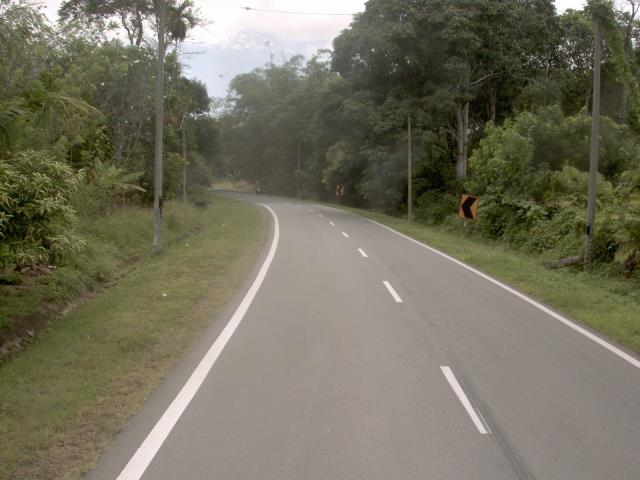traffic_sign: (456, 190, 481, 225)
